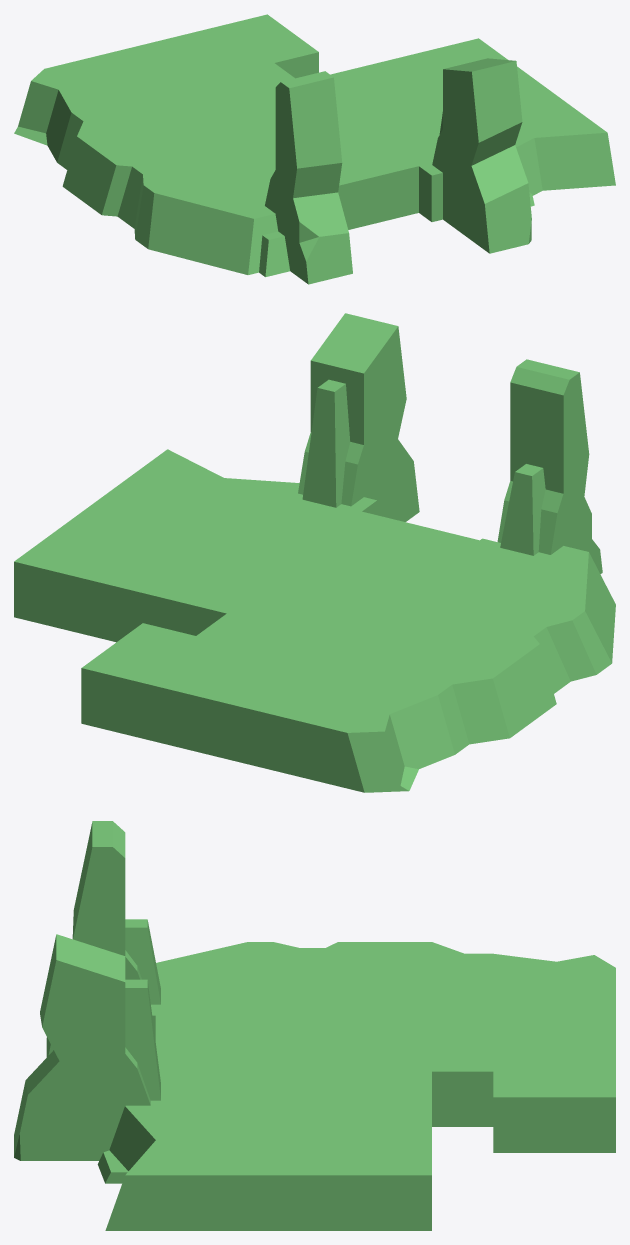
The model's file is x_zem_1_9_cave_lock1_rmstrd_mirror.fbx.
3 views of the same model, one above another, from view 1: azimuth 30°, elevation 25°; view 2: azimuth 150°, elevation 25°; view 3: azimuth 270°, elevation 25° (orthographic). The views are drawn at different scales.
Visible parts, largest first — view 1: x_zem_1_9_cave_lock1_rmstrd_mirror1; view 2: x_zem_1_9_cave_lock1_rmstrd_mirror1; view 3: x_zem_1_9_cave_lock1_rmstrd_mirror1.
Part boxes in pixels (<box>): x_zem_1_9_cave_lock1_rmstrd_mirror1: <box>14,14,615,284</box>; x_zem_1_9_cave_lock1_rmstrd_mirror1: <box>14,313,615,792</box>; x_zem_1_9_cave_lock1_rmstrd_mirror1: <box>14,821,615,1230</box>.
Bounding box in the file's own units: 9.32 × 3.9 × 9.81.
